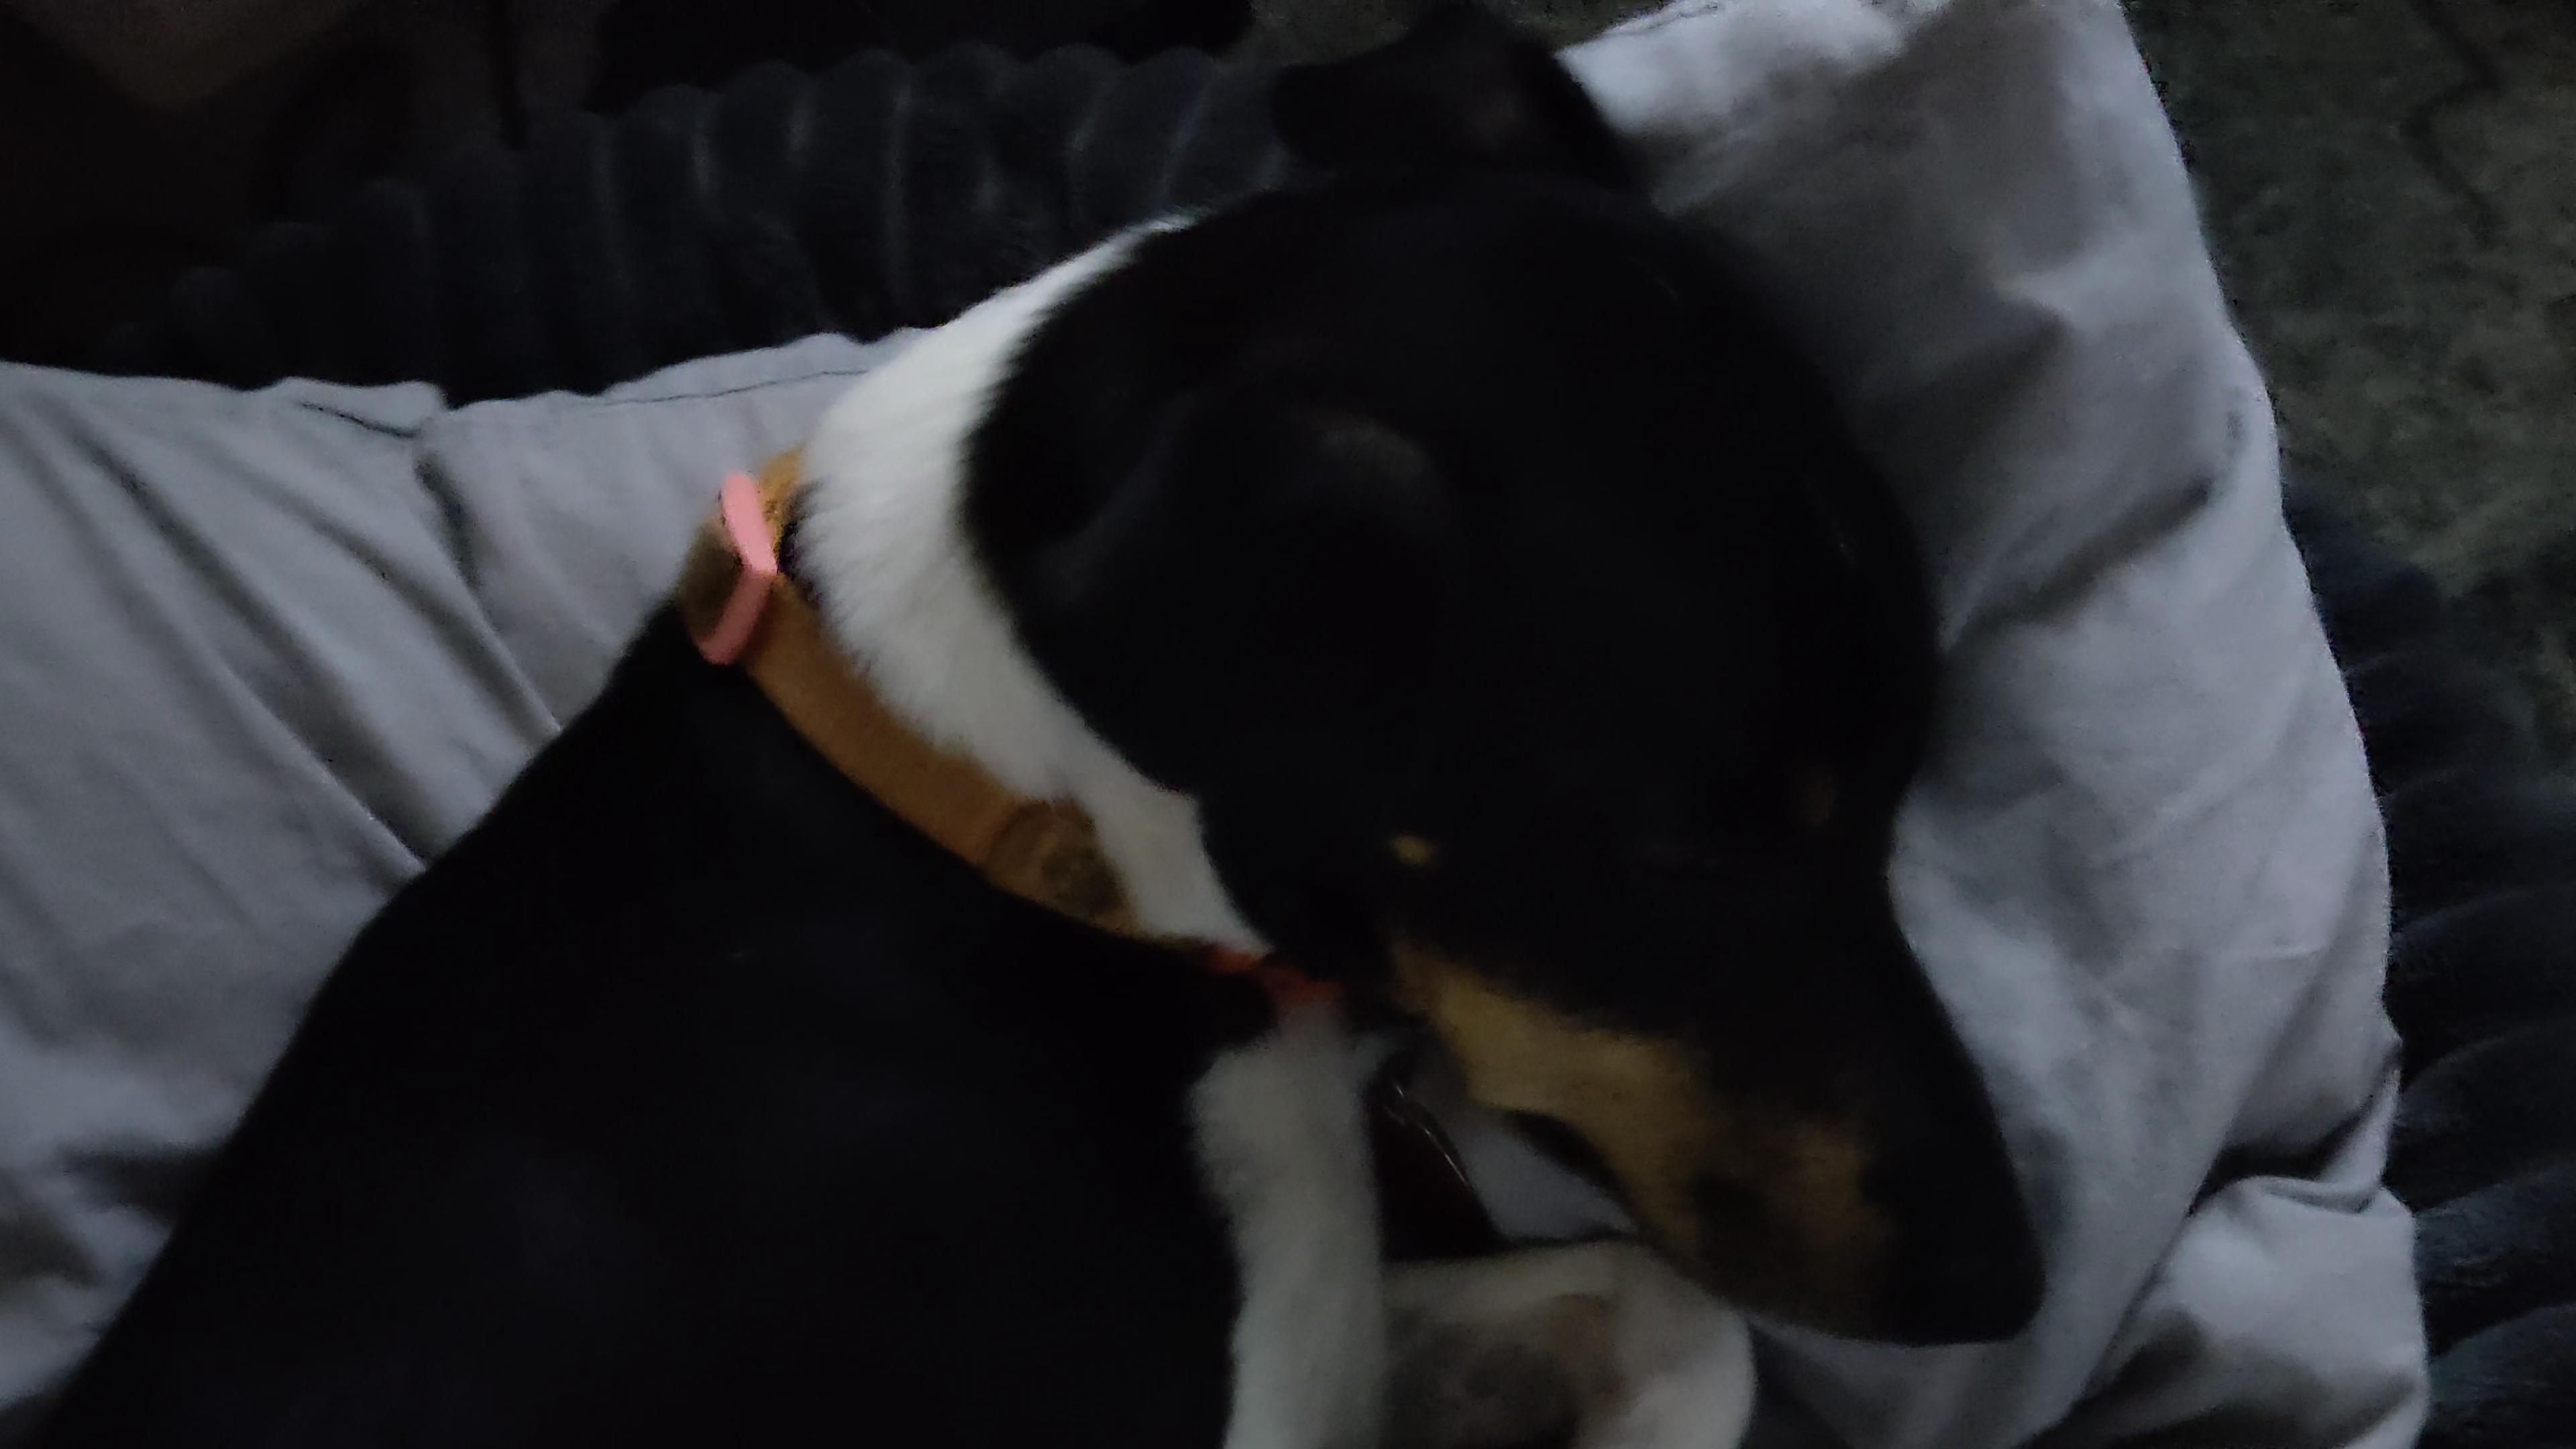Dog: (0, 0, 2088, 1449)
